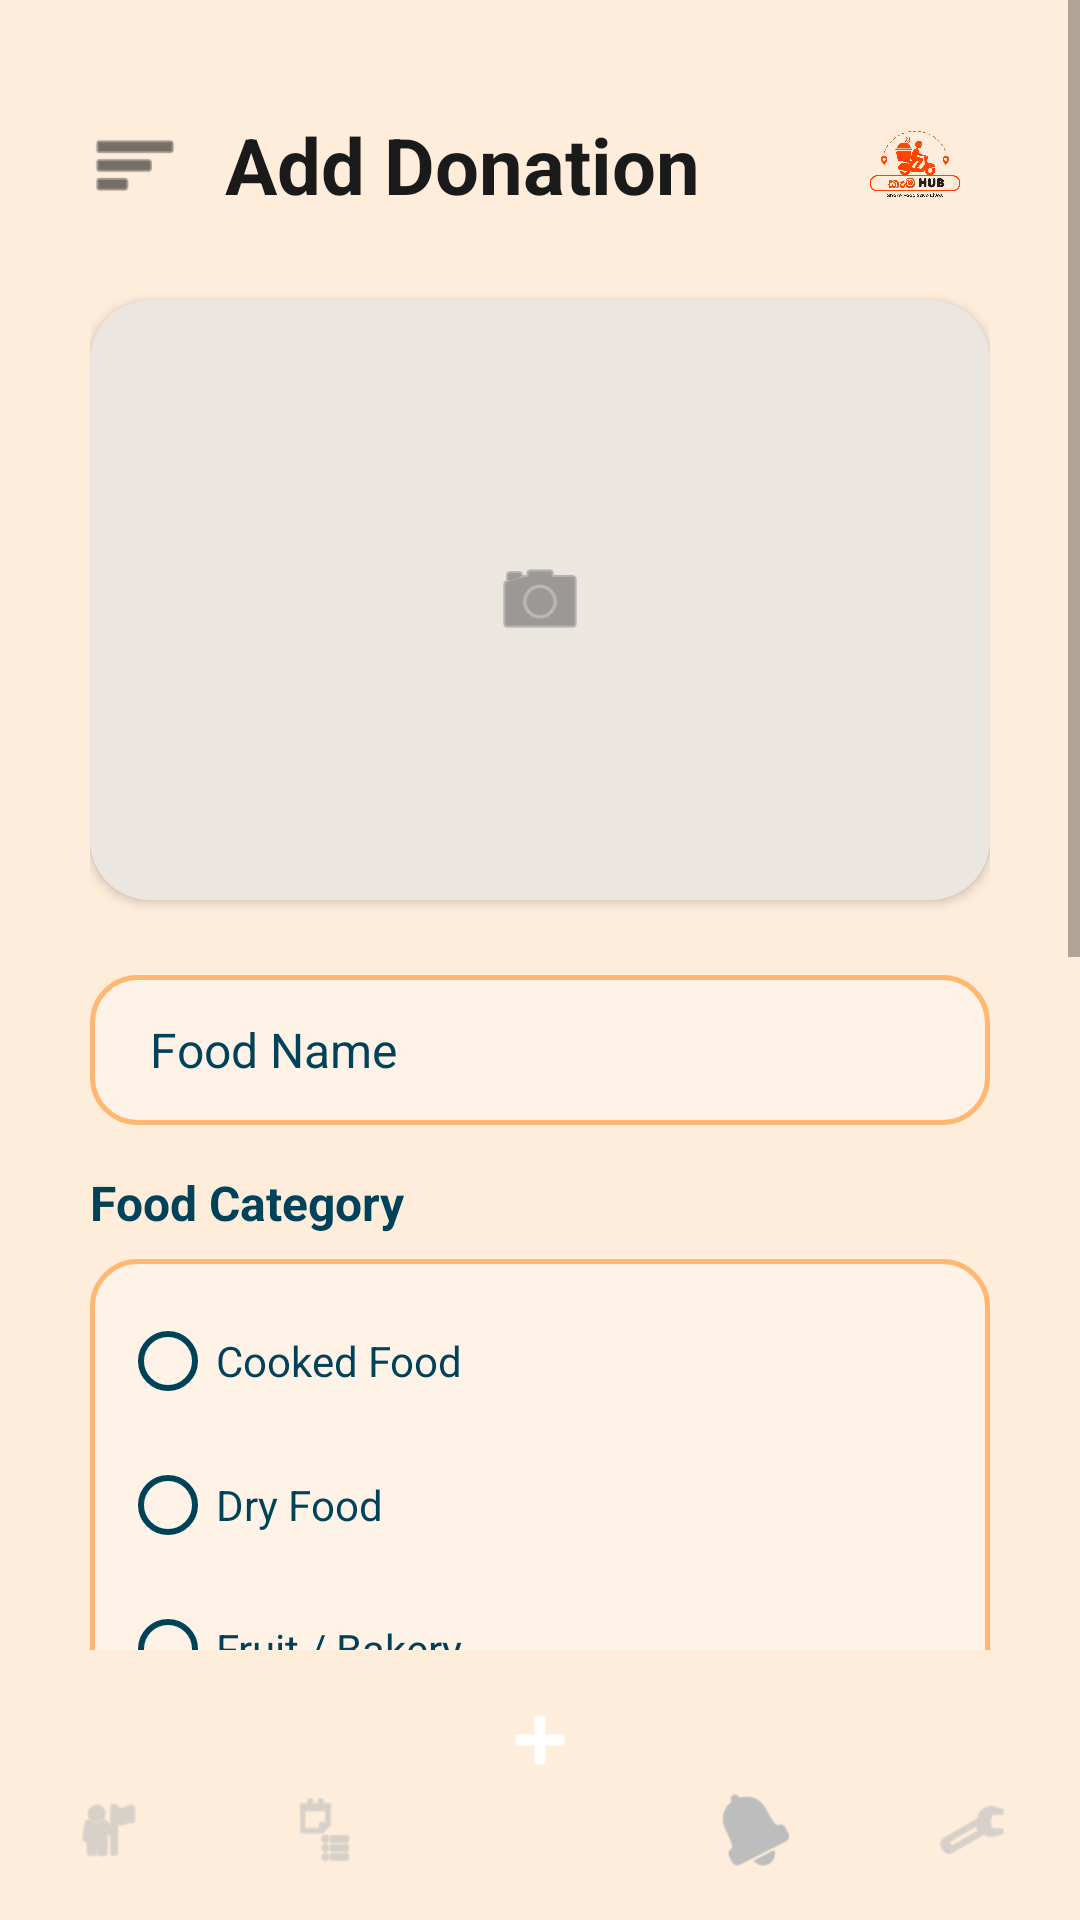

Icons on this 1080px x 1920px Android screen, each with its box as (x1, y1, x2, y2):
add: (516, 1716, 564, 1764)
agenda: (300, 1798, 349, 1861)
manage: (940, 1806, 1004, 1854)
myplaces: (83, 1804, 135, 1856)
popup reminder: (723, 1794, 789, 1866)
sort by size: (96, 140, 174, 191)
